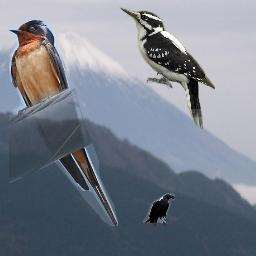Crow: (143, 193, 175, 229)
Swallow: (9, 18, 118, 226)
Woodpecker: (119, 4, 215, 129)
